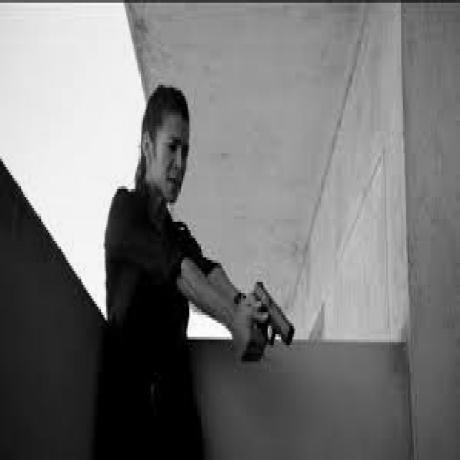Guns: (249, 276, 301, 360)
